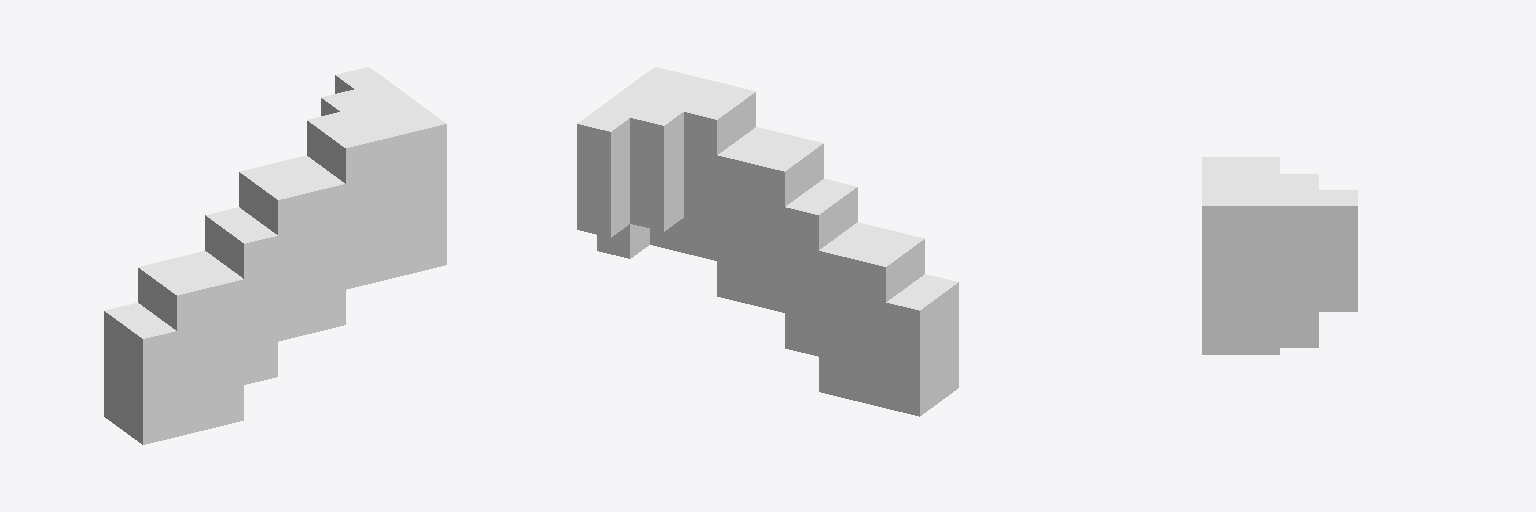
The model's file is cool-trainer-3.obj.
3 renders of one model, left to right at view 1: azimuth 30°, elevation 25°; view 2: azimuth 150°, elevation 25°; view 3: azimuth 270°, elevation 25°, orthographic.
Parts seen in each view (by area): view 1: object 1; view 2: object 1; view 3: object 1.
Boxes of the visible parts, x1,y1,x2,y2 form: object 1: [104, 67, 446, 444]; object 1: [577, 67, 958, 416]; object 1: [1202, 157, 1357, 354].
Bounding box in the file's own units: 0.9 × 0.7 × 0.4.